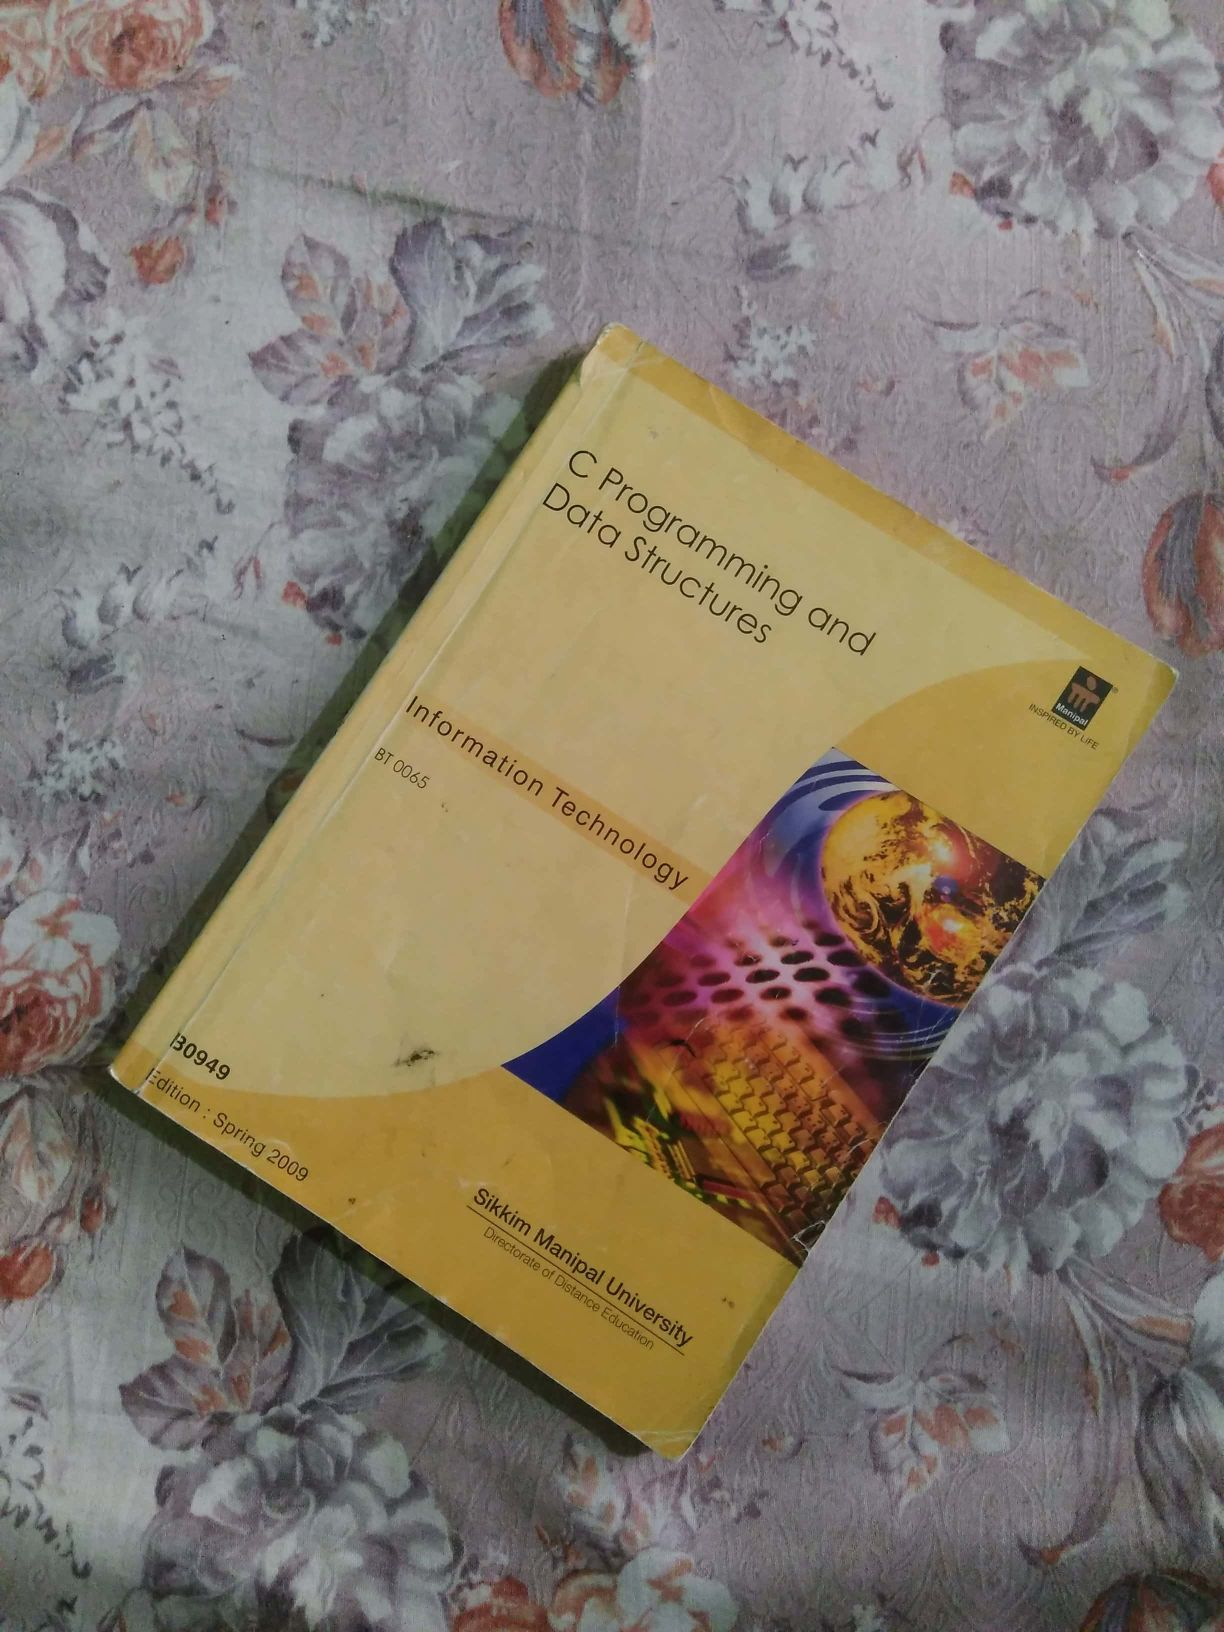clang: (120, 315, 1137, 1398)
